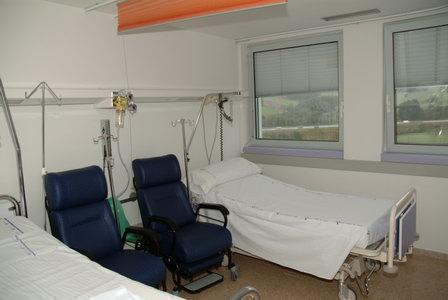Cama: (188, 154, 428, 274), (2, 193, 188, 299)
Ventana: (246, 45, 345, 159), (384, 24, 447, 164)
